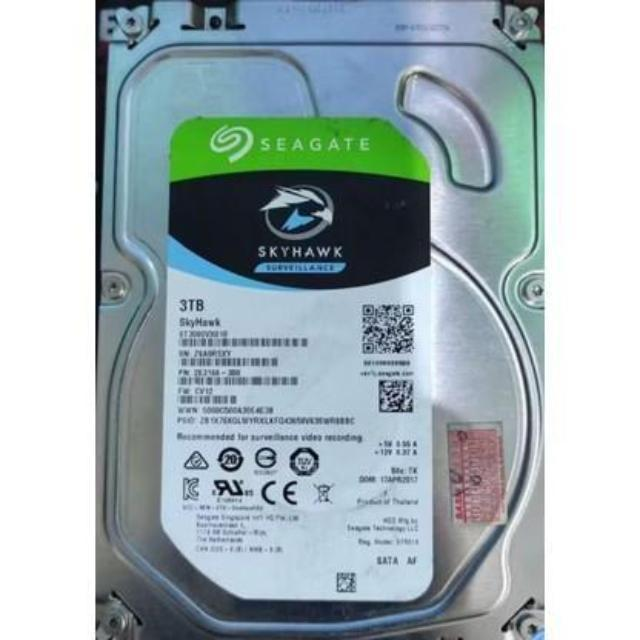DISK: (94, 0, 546, 640)
